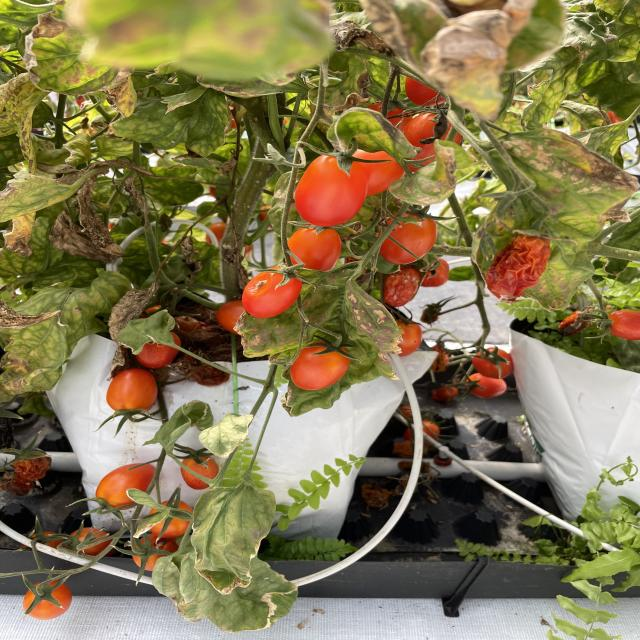Soilbag: (31, 285, 437, 545)
plant: (81, 29, 420, 382)
